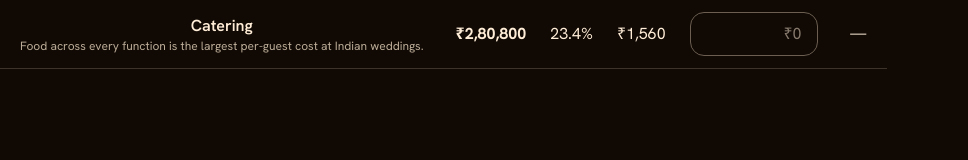
it: BudgetRow spent-so-far error › is announced as an alert on blur and tied to the field
Step 1. Type "12 lakh" into the field named "spent so far on" → coordinates (754, 34), box 690,12 -> 818,56
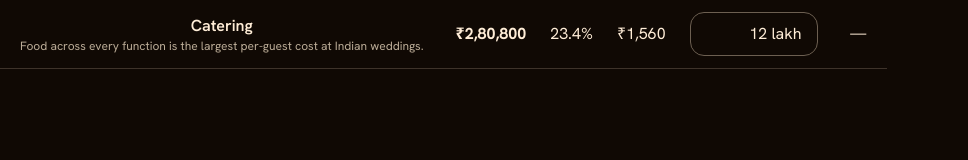
Step 2. Leave the field named "spent so far on", box 690,12 -> 818,56
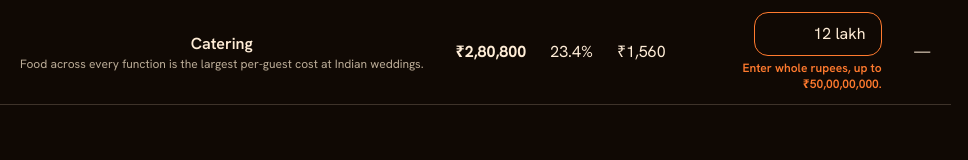
Result: the message shows "Enter whole rupees, up to" at 742,60 -> 882,92
